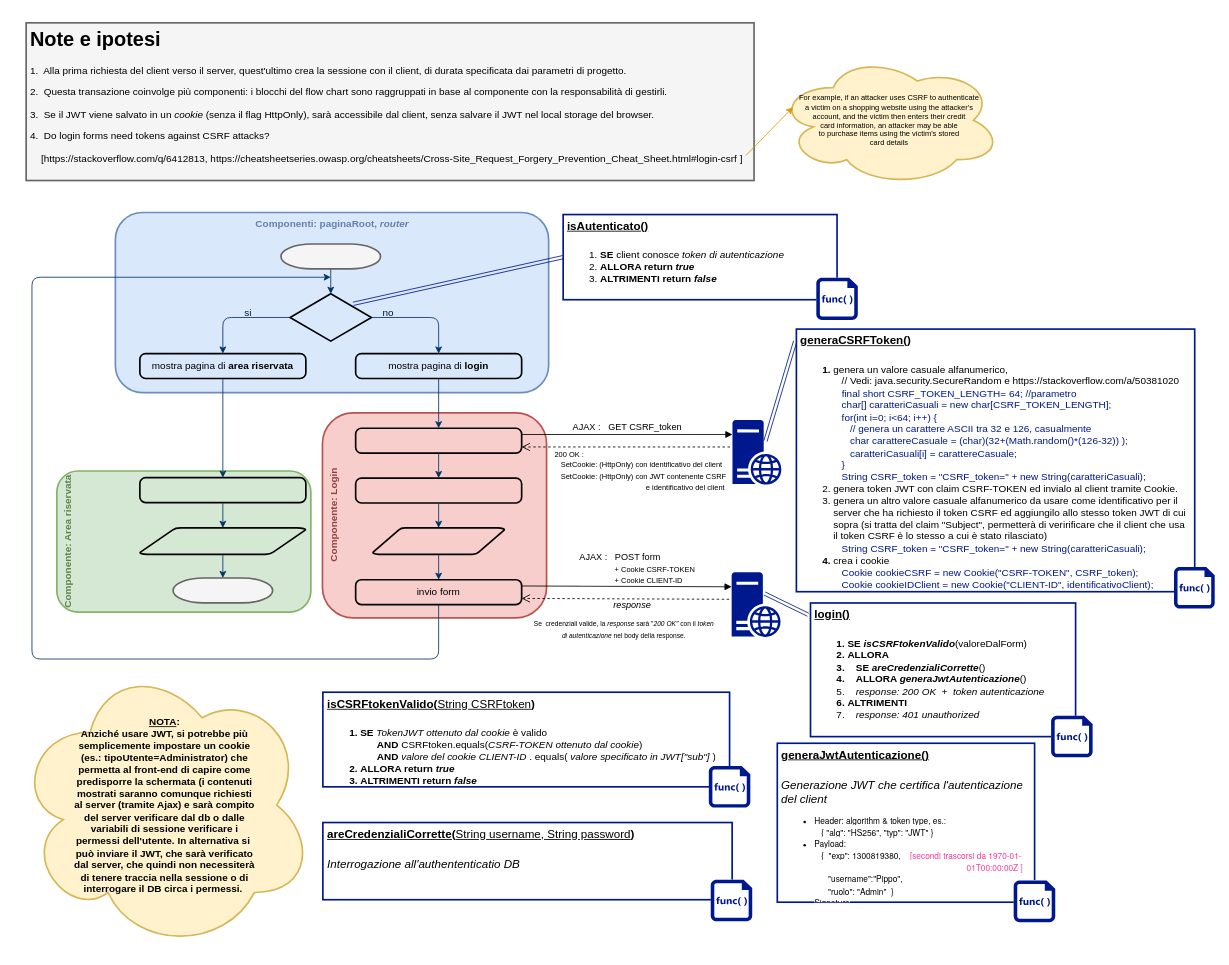
Some shapes in this 1229 by 965 pixel diagram are drawn without their labels. The shapes that lost their labels are listed below. From the top down, each one's centre as x and y in pixels, then its label:
point (330, 256): START
point (330, 317): utente è autenticato?
point (438, 440): richiedi cookie con CSRF Token
point (222, 489): Determina tipo di utente per predisporre la schermata corretta
point (438, 490): crea form di login con campo CSRF
point (222, 541): area riservata personaliz- zata in base al tipo utente
point (438, 541): utente riempie form
point (222, 590): FINE
